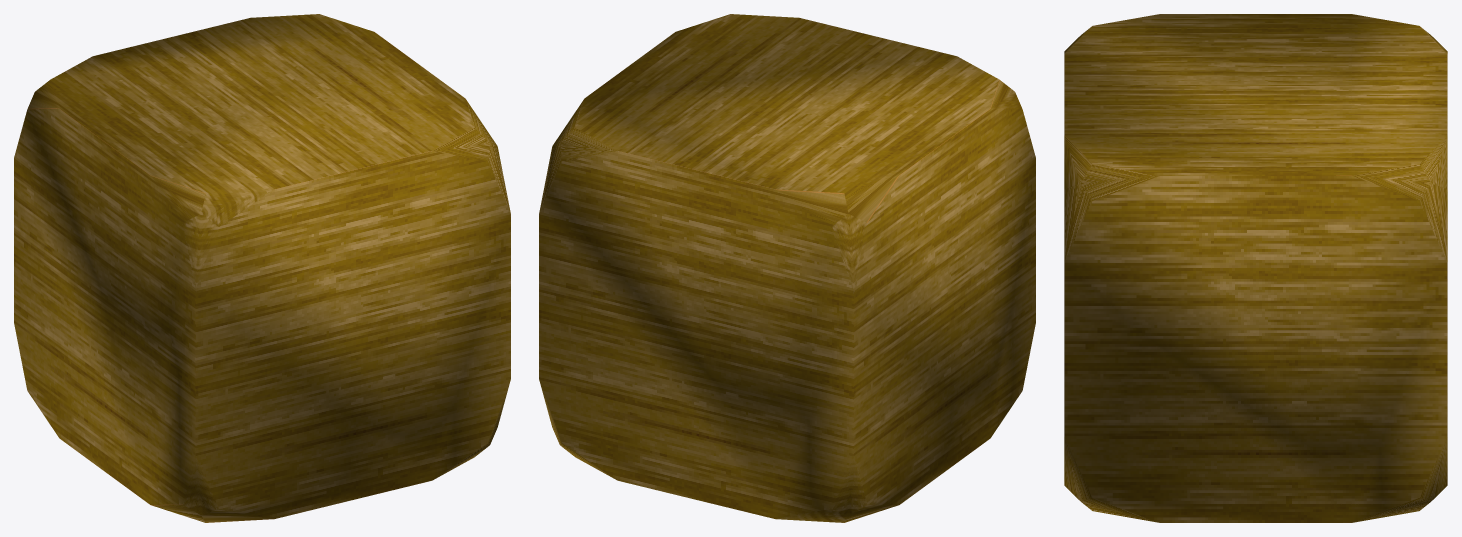
File: BlockD.fbx
3 renders of one model, left to right at view 1: azimuth 30°, elevation 25°; view 2: azimuth 150°, elevation 25°; view 3: azimuth 270°, elevation 25°, orthographic. The views are drawn at different scales.
Visible parts, largest first — view 1: BlockD; view 2: BlockD; view 3: BlockD.
Boxes of the visible parts, x1=… form: BlockD: x1=14, y1=14, x2=510, y2=522; BlockD: x1=539, y1=14, x2=1035, y2=522; BlockD: x1=1064, y1=14, x2=1447, y2=522.
Bounding box in the file's own units: 1 × 1 × 1.
1 material, 1 textured.
